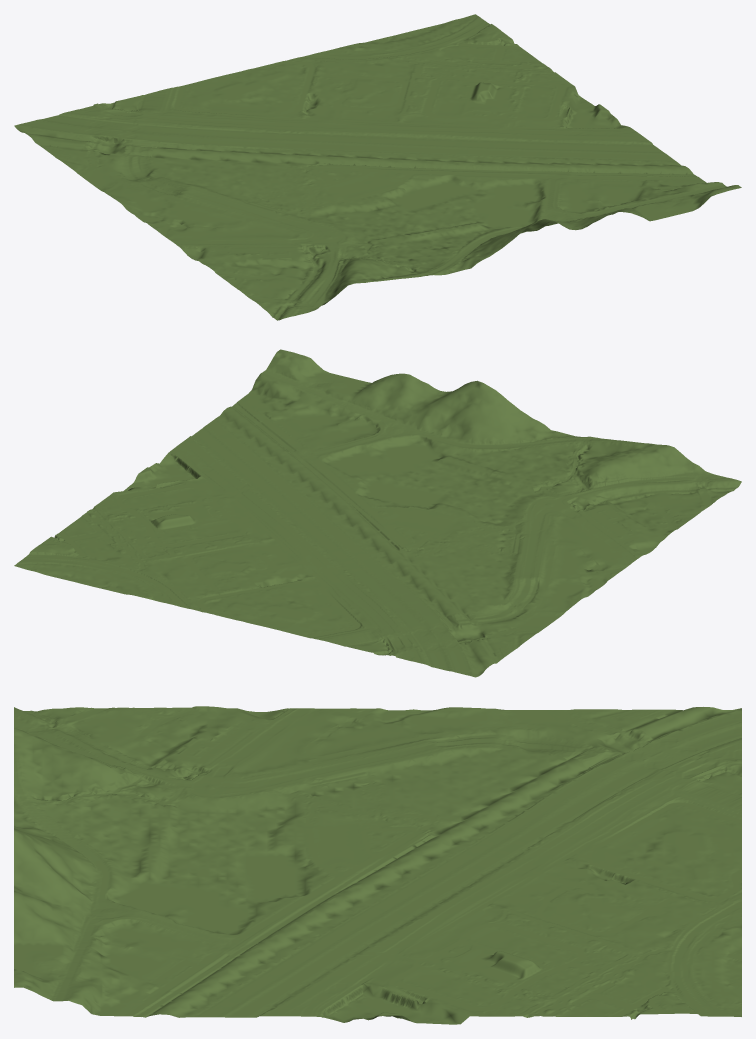
File: terrain_3_1.glb
The picture shows the model from 3 angles, top to bottom: view 1: azimuth 30°, elevation 25°; view 2: azimuth 150°, elevation 25°; view 3: azimuth 270°, elevation 25°; orthographic projection. The views are drawn at different scales.
Visible parts, largest first — view 1: terrain_3_1; view 2: terrain_3_1; view 3: terrain_3_1.
Boxes of the visible parts, x1,y1,x2,y2 form: terrain_3_1: (14,14,741,320); terrain_3_1: (14,349,741,677); terrain_3_1: (14,706,741,1024).
Bounding box in the file's own units: 600 × 54.48 × 600.
